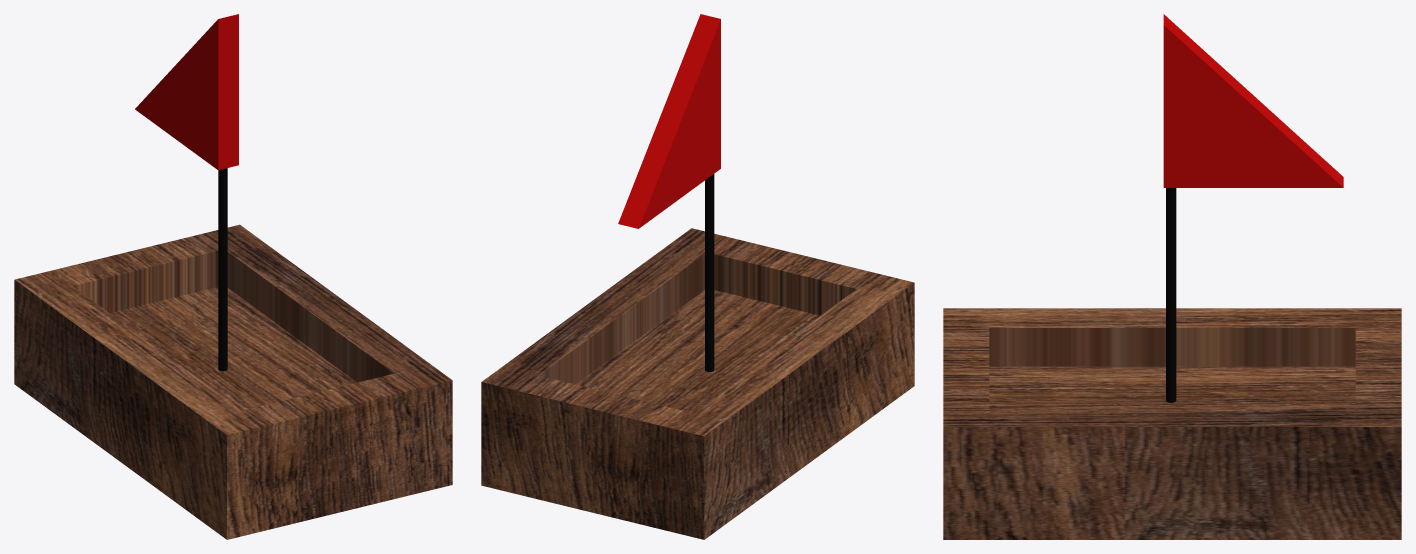
File: barquito.obj
3 renders of one model, left to right at view 1: azimuth 30°, elevation 25°; view 2: azimuth 150°, elevation 25°; view 3: azimuth 270°, elevation 25°, orthographic. The views are drawn at different scales.
Parts seen in each view (by area): view 1: Cubo.004_Cubo; view 2: Cubo.004_Cubo; view 3: Cubo.004_Cubo.
Boxes of the visible parts, x1=… form: Cubo.004_Cubo: x1=14, y1=14, x2=452, y2=539; Cubo.004_Cubo: x1=481, y1=14, x2=914, y2=539; Cubo.004_Cubo: x1=943, y1=14, x2=1401, y2=539.
Bounding box in the file's own units: 54.73 × 98.19 × 89.38.
Materials: 3 (3 with a texture image).
